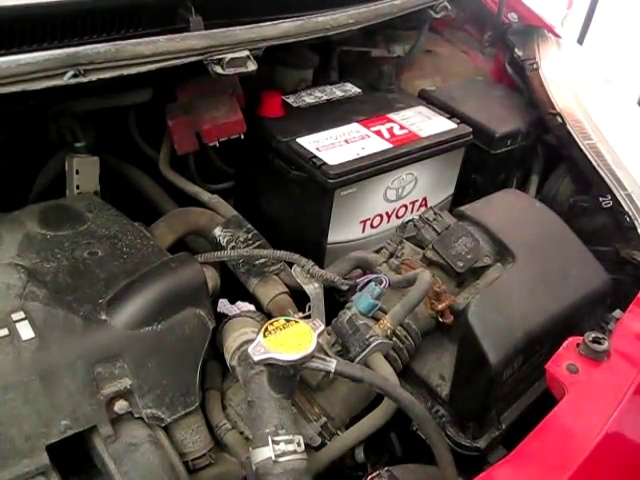battery: (255, 60, 472, 182)
pos_disconnected: (181, 85, 289, 141)
